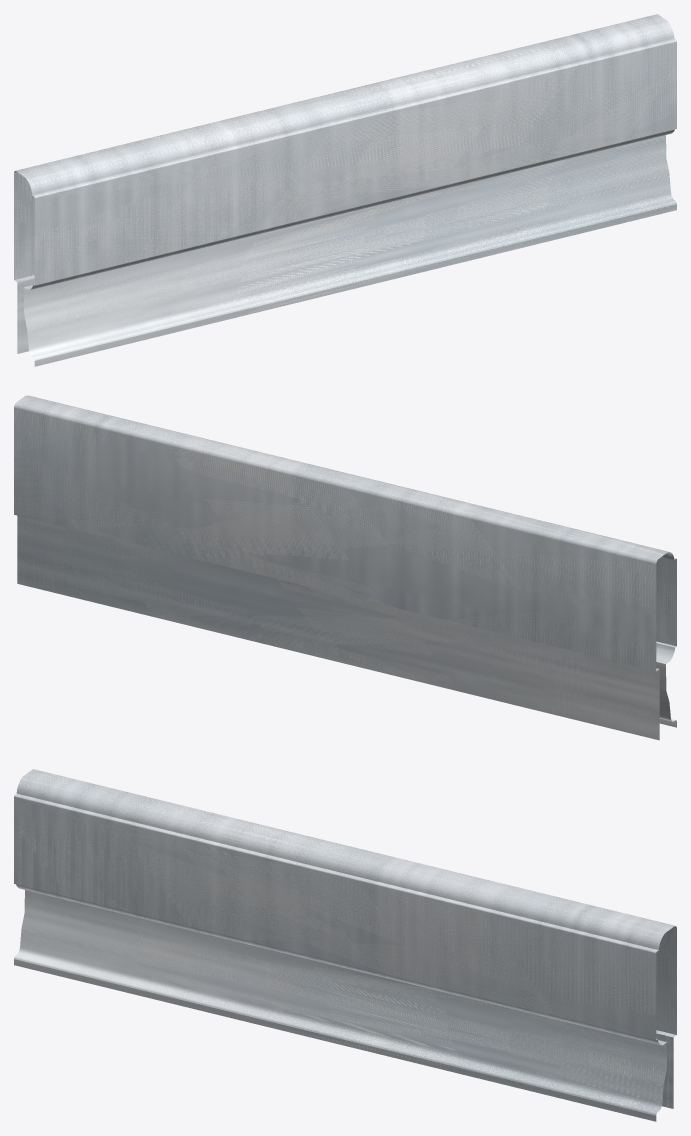
File: original-26.obj
3 renders of one model, top to bottom at view 1: azimuth 30°, elevation 25°; view 2: azimuth 150°, elevation 25°; view 3: azimuth 330°, elevation 25°, orthographic.
Visible parts, largest first — view 1: LB_11_TC1/LB_11_TC/mesh17/mesh17-geometry#mesh17-geometry; view 2: LB_11_TC1/LB_11_TC/mesh17/mesh17-geometry#mesh17-geometry; view 3: LB_11_TC1/LB_11_TC/mesh17/mesh17-geometry#mesh17-geometry.
Part boxes in pixels (x1,y1,x2,y2): LB_11_TC1/LB_11_TC/mesh17/mesh17-geometry#mesh17-geometry: (14, 14, 676, 366); LB_11_TC1/LB_11_TC/mesh17/mesh17-geometry#mesh17-geometry: (14, 395, 676, 740); LB_11_TC1/LB_11_TC/mesh17/mesh17-geometry#mesh17-geometry: (14, 769, 676, 1121).
Size of the model in its own units: 0.6462 by 0.1751 by 0.0363.
